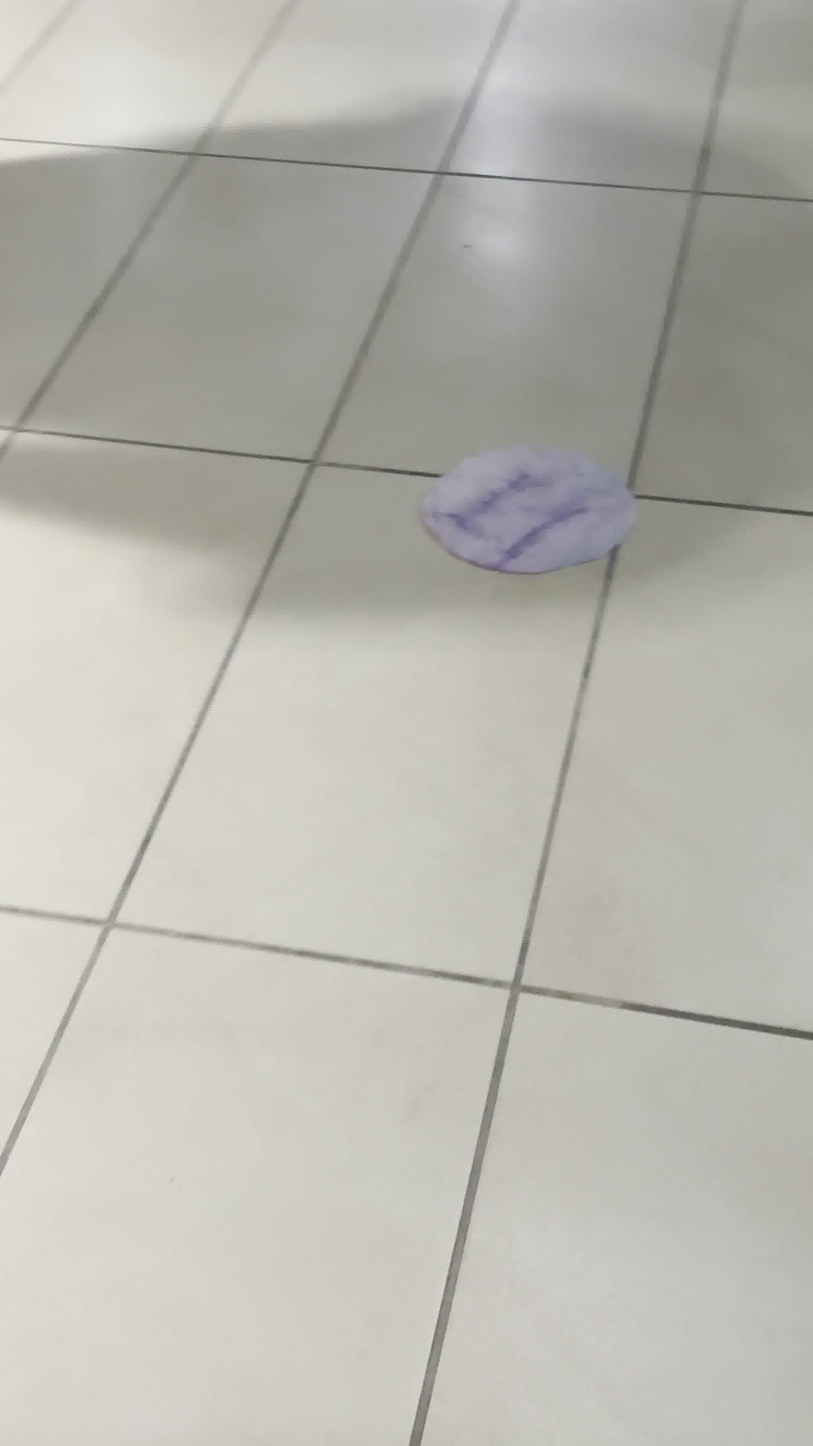Target: (416, 446, 639, 575)
